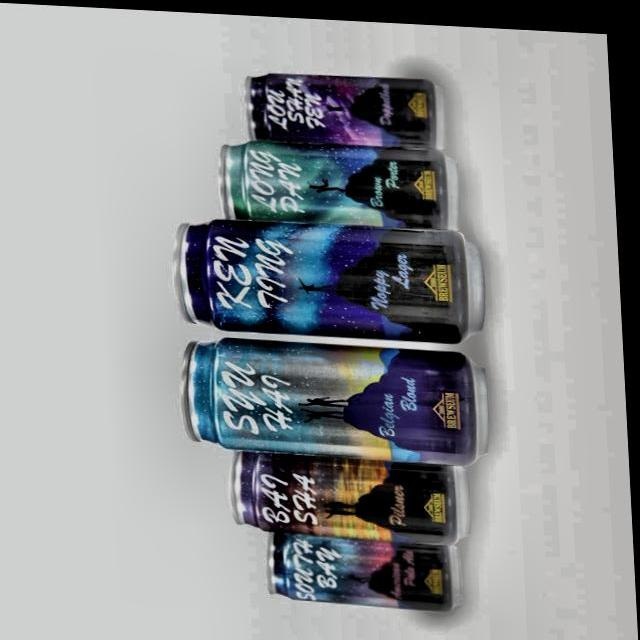litter: (174, 329, 496, 464), (170, 208, 494, 342), (221, 448, 481, 544), (212, 132, 470, 228), (245, 61, 453, 148), (258, 529, 466, 611)
